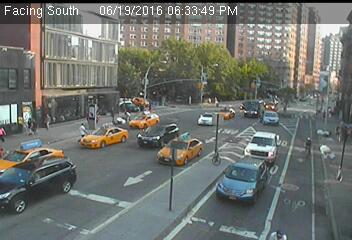neg: (210, 154, 229, 179), (241, 176, 258, 200), (298, 132, 315, 155), (174, 153, 191, 176), (286, 180, 303, 203), (300, 12, 316, 34), (314, 195, 329, 215), (325, 27, 340, 47), (180, 22, 195, 42), (38, 38, 53, 57), (215, 14, 229, 33), (185, 71, 199, 90), (44, 7, 58, 25), (142, 163, 155, 181), (327, 63, 339, 80), (262, 23, 274, 39), (63, 162, 75, 178), (149, 14, 161, 29), (223, 65, 235, 80), (175, 102, 186, 117), (172, 51, 183, 66), (15, 61, 26, 76), (98, 175, 109, 190), (260, 51, 271, 66), (106, 24, 116, 39), (106, 144, 116, 158), (142, 51, 152, 65), (233, 130, 243, 143), (22, 24, 31, 36), (242, 10, 251, 22), (235, 56, 244, 68), (207, 36, 215, 48), (70, 36, 78, 47), (66, 68, 74, 79), (300, 44, 308, 54), (250, 101, 257, 110), (99, 70, 105, 78), (326, 121, 332, 129)
pos: (20, 112, 37, 134), (39, 107, 55, 128), (77, 121, 89, 137), (124, 110, 132, 121)
